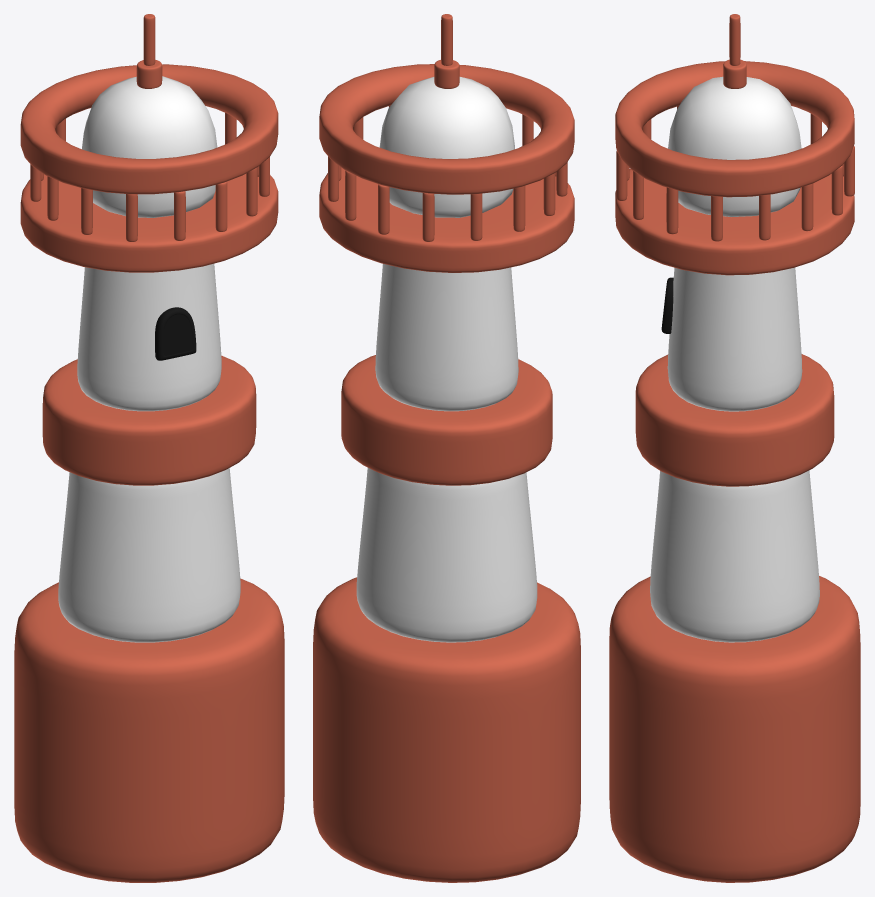
File: Lighthouse_Mid.fbx
The picture shows the model from 3 angles, left to right: view 1: azimuth 30°, elevation 25°; view 2: azimuth 150°, elevation 25°; view 3: azimuth 270°, elevation 25°; orthographic projection.
Visible parts, largest first — view 1: Lighthouse_Mid; view 2: Lighthouse_Mid; view 3: Lighthouse_Mid.
Boxes of the visible parts, x1,y1,x2,y2 form: Lighthouse_Mid: (14, 14, 284, 882); Lighthouse_Mid: (313, 14, 580, 882); Lighthouse_Mid: (609, 14, 860, 882).
Size of the model in its own units: 36.27 by 119 by 33.31.
